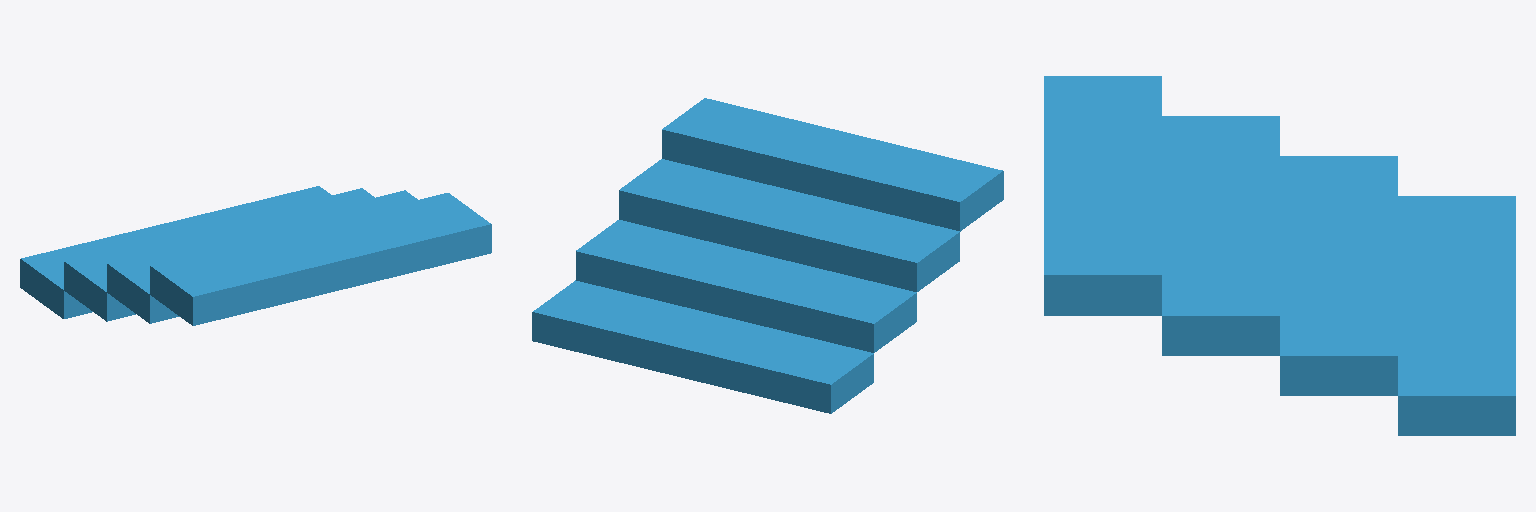
URDF robot description (multi_boxes):
<?xml version="1.0"?>
<robot name="multi_boxes">
  <link name="world"/>
  <!-- multi_boxes -->
  <link name="multi_boxes_link">
    <visual>
      <origin xyz="0 0 0" rpy="0 0 0"/>
      <geometry>
        <mesh filename="multi_boxes.obj" scale="1.0 1.0 1.0"/>
      </geometry>
      <material name="multi_boxes_material">
        <color rgba="0.3 0.7 0.9 0.5"/>
      </material>
    </visual>

    <collision name="multi_boxes">
      <origin xyz="0 0 0" rpy="0 0 0"/>
      <geometry>
        <mesh filename="multi_boxes.obj" scale="1.0 1.0 1.0"/>
      </geometry>
    </collision>

    <inertial>
      <origin xyz="0 0 0" rpy="0 0 0"/>
      <mass value="100.0"/>
      <inertia ixx="100.0" ixy="0.0" ixz="0.0" iyy="100.0" iyz="0.0" izz="100.0"/>
    </inertial>
  </link>

  <!-- Fixed joint to world -->
  <!-- IMPORTANT: multi_boxes.obj vertices are in absolute coordinates -->
  <!-- So we set position to [0, 0, 0] to let OBJ coordinates take effect directly -->
  <joint name="world_to_multi_boxes" type="fixed">
    <parent link="world"/>
    <child link="multi_boxes_link"/>
    <origin xyz="0 0 0" rpy="0 0 0"/>
  </joint>

</robot>

--- What the picture shows (computed from the rendered views, not written in the file) ---
Views: 3 orthographic renders of the robot side by side, from view 1: azimuth 30°, elevation 25°; view 2: azimuth 150°, elevation 25°; view 3: azimuth 270°, elevation 25°.
Robot: multi_boxes — 2 links, 1 joints (1 fixed); root link world; default pose: every joint at zero.
Links seen in each view (by area): view 1: multi_boxes_link; view 2: multi_boxes_link; view 3: multi_boxes_link.
Link boxes in pixels (left/top/right/bottom): multi_boxes_link: left=20, top=186, right=491, bottom=325; multi_boxes_link: left=532, top=98, right=1003, bottom=413; multi_boxes_link: left=1044, top=76, right=1515, bottom=435.
Size in the robot's own frame: 1.6 by 1.6 by 0.6 metres.
Meshes: 1 distinct files referenced, 1 mesh visuals loaded (1 OBJ).
